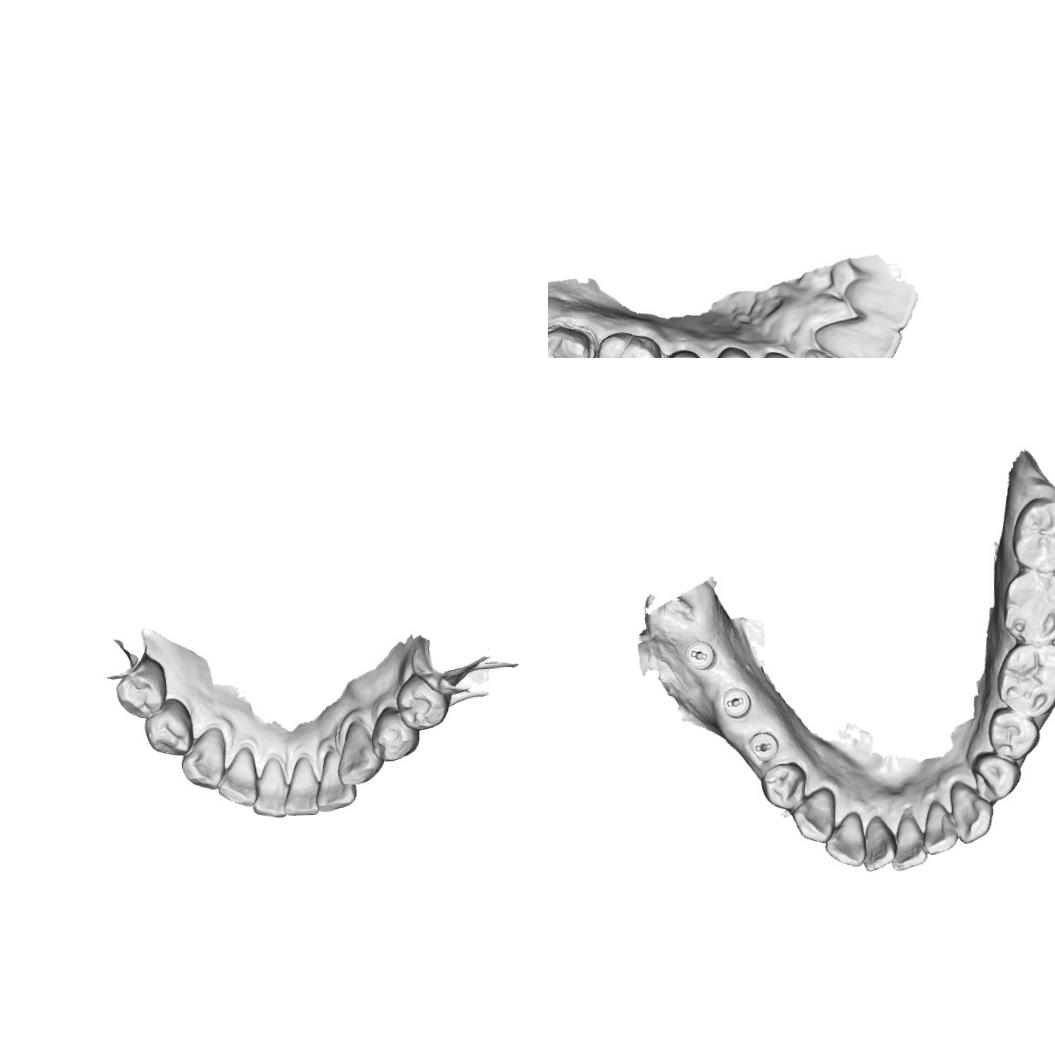canine: (178, 724, 228, 792), (334, 719, 384, 787), (947, 778, 996, 846), (790, 785, 838, 844)
crown: (548, 320, 599, 358)
implant: (680, 636, 720, 672)
implant_minus: (720, 685, 754, 720), (746, 729, 780, 763)
incisor: (842, 274, 920, 334), (811, 315, 905, 358), (313, 746, 358, 814), (216, 744, 260, 809), (822, 810, 866, 868), (250, 754, 289, 819), (282, 754, 320, 818), (888, 813, 928, 873), (919, 798, 959, 856), (861, 812, 898, 874), (802, 345, 867, 358)
molar: (993, 641, 1055, 718), (999, 568, 1055, 646), (1008, 494, 1055, 574), (589, 328, 667, 358)
premolar: (114, 654, 170, 720), (393, 672, 452, 732), (143, 696, 195, 760), (985, 706, 1042, 763), (368, 706, 421, 764), (970, 751, 1023, 804), (759, 762, 808, 814)
